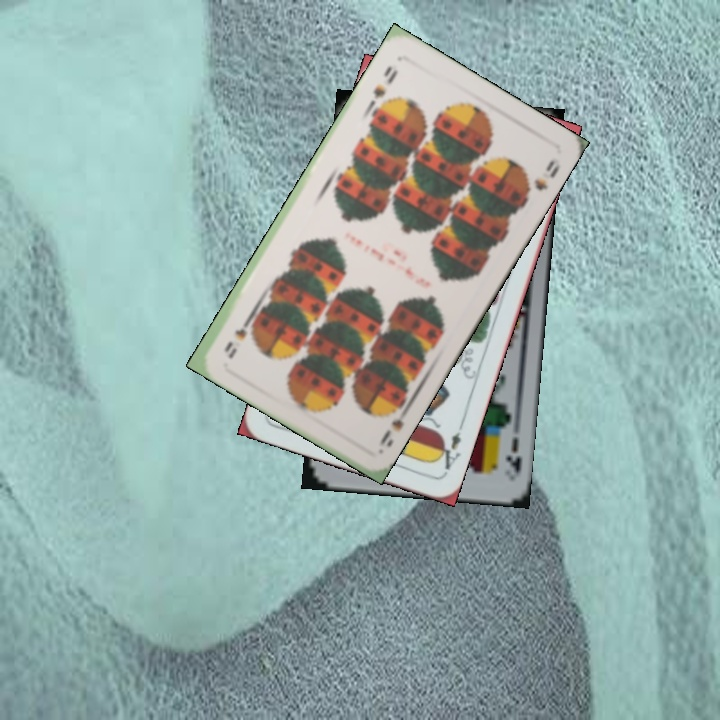EA: (432, 428, 464, 476)
EK: (501, 433, 525, 481)
S9: (375, 398, 413, 454), (369, 61, 401, 111)
